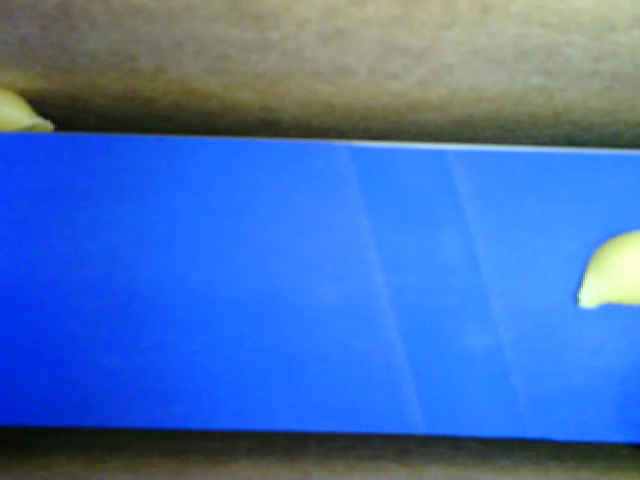shell: (570, 221, 639, 309), (1, 84, 56, 133)
